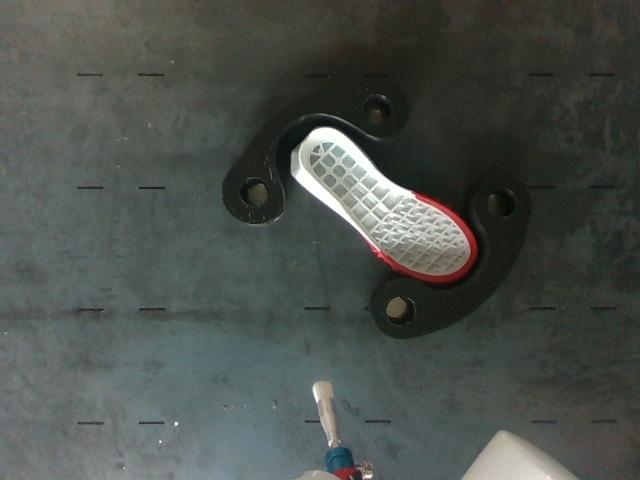shoes: (300, 127, 477, 280)
